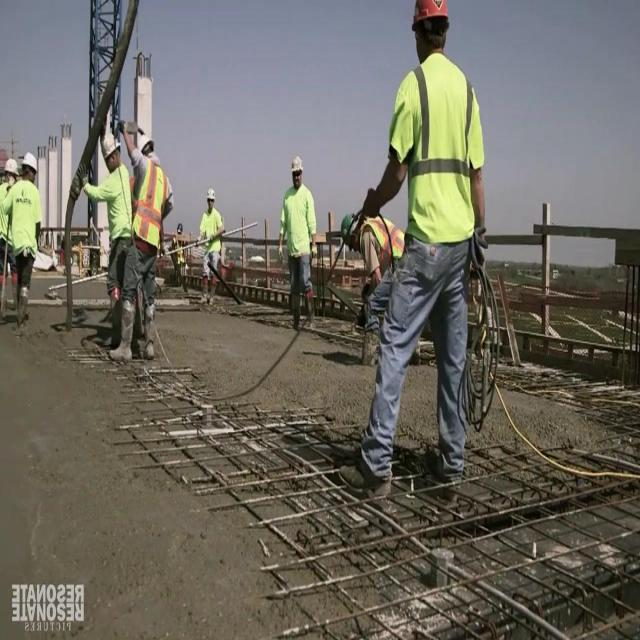Reflective-Jacket: (383, 54, 495, 262), (129, 153, 173, 259), (355, 208, 409, 284), (101, 162, 135, 252), (196, 207, 228, 263)
Safety-Helmet: (405, 0, 456, 37), (98, 124, 125, 162), (286, 150, 309, 182), (20, 147, 40, 175), (3, 153, 21, 180), (202, 182, 220, 208)
